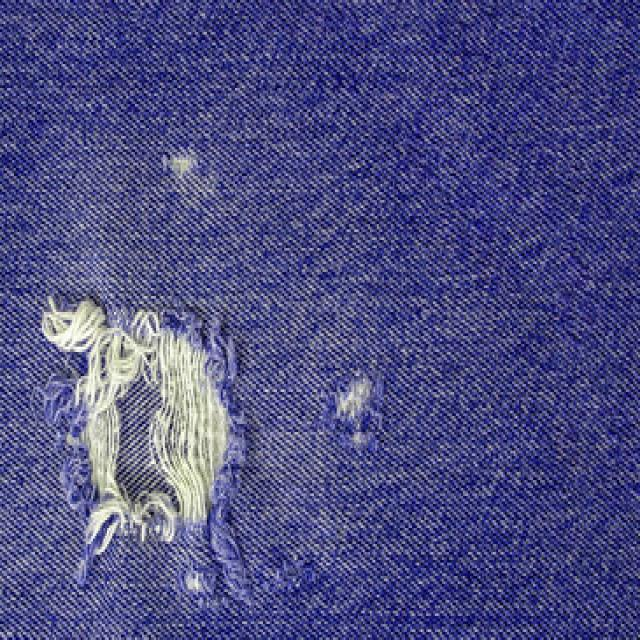Hole: (42, 298, 248, 600), (337, 372, 383, 448), (178, 568, 221, 610), (163, 150, 197, 178)
